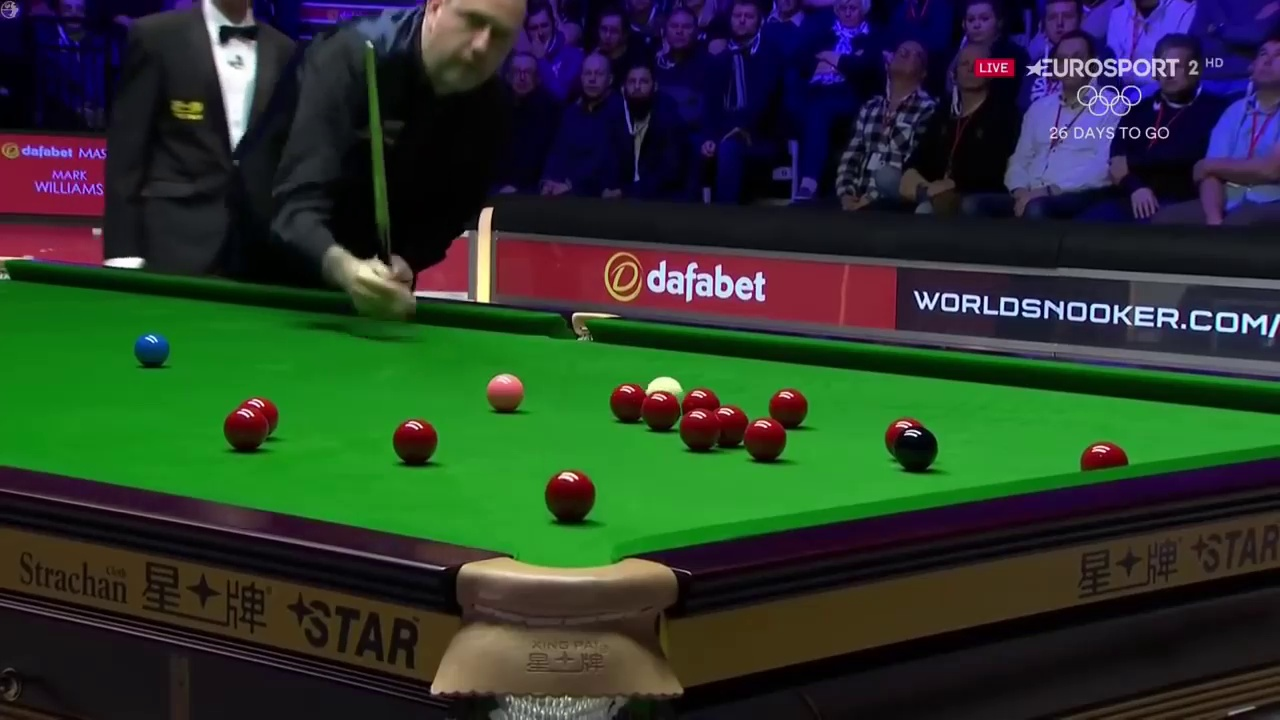ball: (542, 469, 594, 523), (892, 426, 938, 474), (393, 421, 437, 464), (223, 406, 267, 447), (483, 372, 528, 411), (679, 409, 718, 451), (746, 415, 783, 459), (130, 329, 171, 368), (643, 391, 680, 430)
